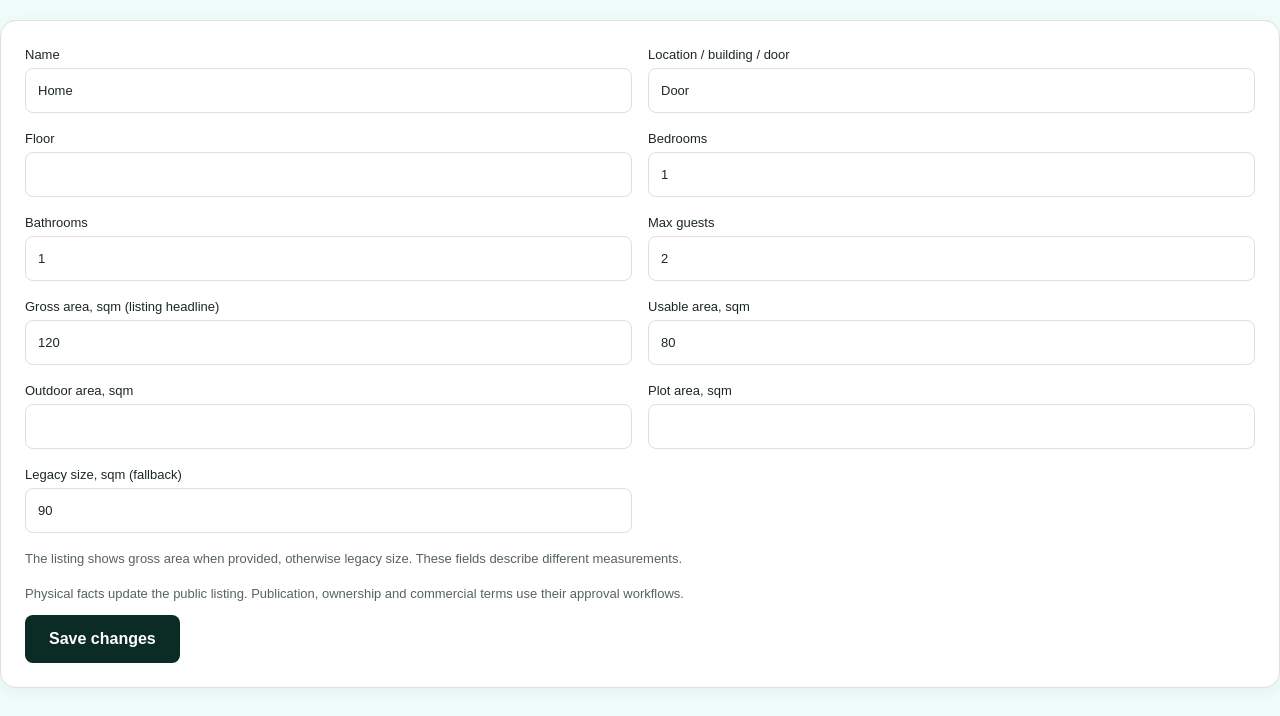
Scenario: property edit recovery › retains input on conflict and blocks stale retries until explicit reload
The image size is (1280, 716).
Replace the text in the field labelled "Name" with "My retained edit" at (328, 90), box [25,68,632,113]
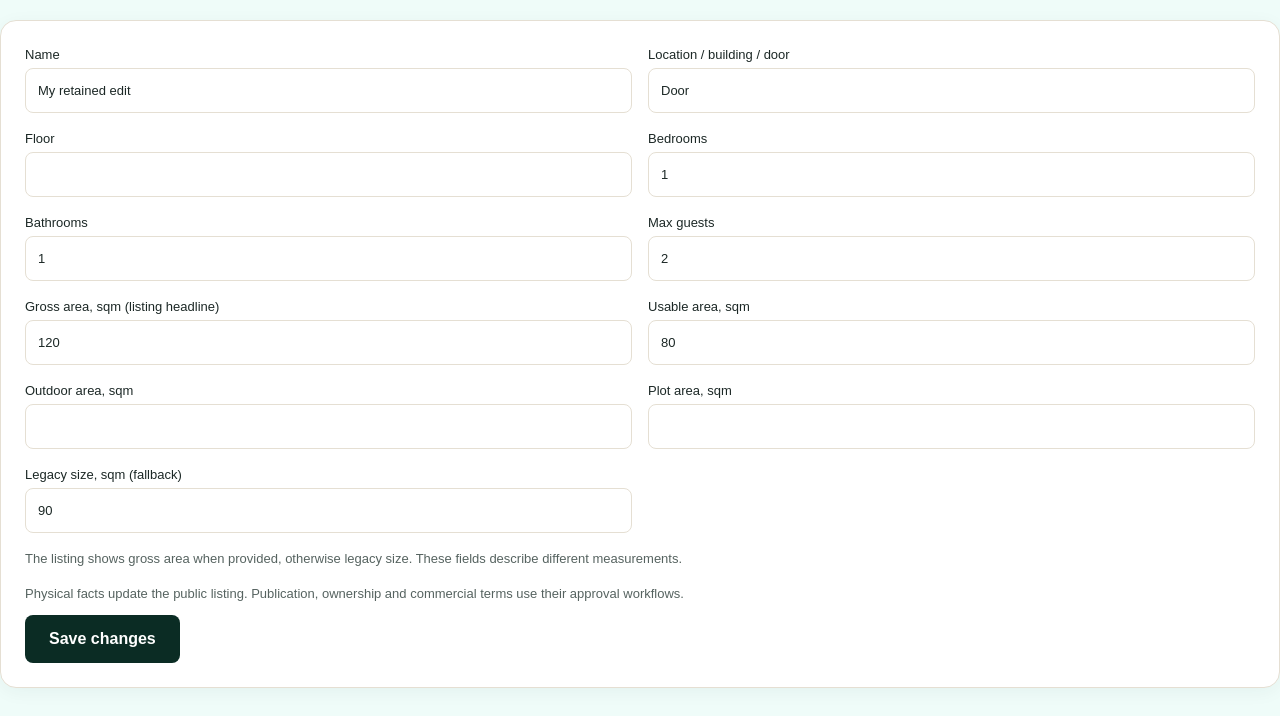
Submit the form named "Save changes"
(page scrolled)
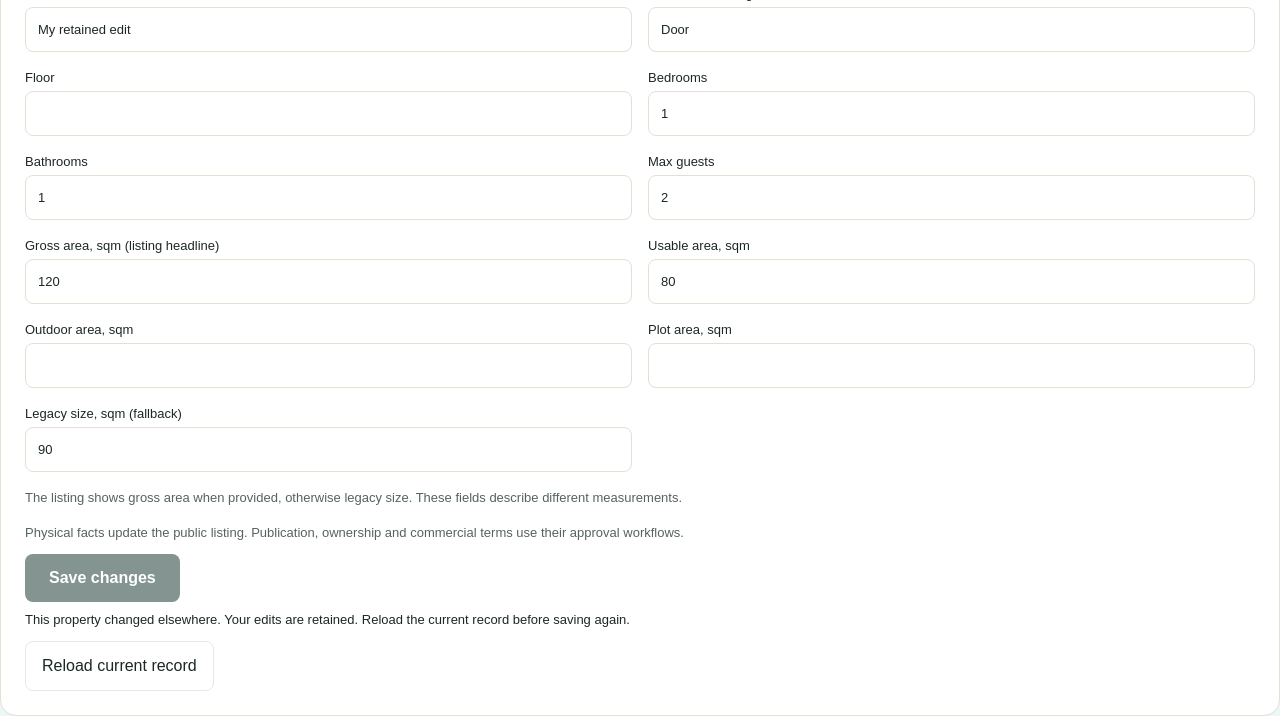
Expected: the text "This property changed elsewhere" is shown, [25,612,630,627]
Expected: the button "Save changes" is disabled, [25,554,180,602]
Expected: the button "Reload current record" is enabled, [25,641,214,691]
